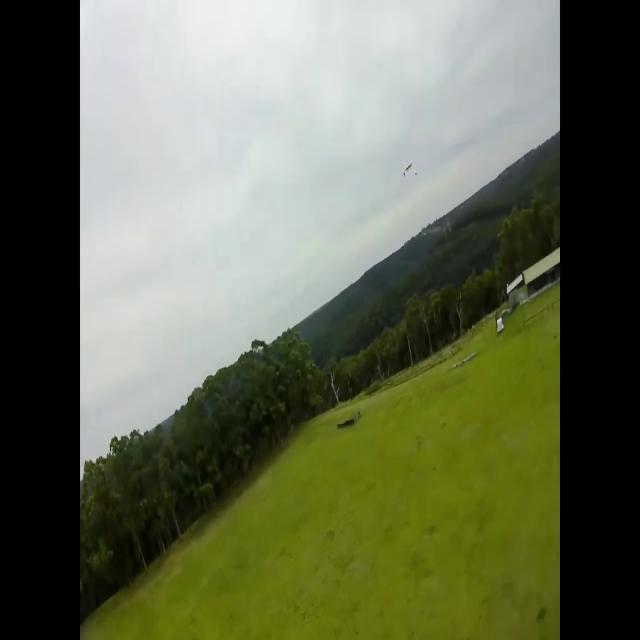iha: (403, 163, 417, 180)
